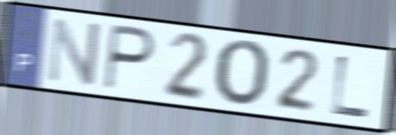2: (162, 30, 211, 103), (275, 47, 321, 114)
L: (329, 53, 373, 121)
N: (44, 14, 104, 89)
O: (213, 37, 274, 110)
P: (100, 21, 158, 94)
